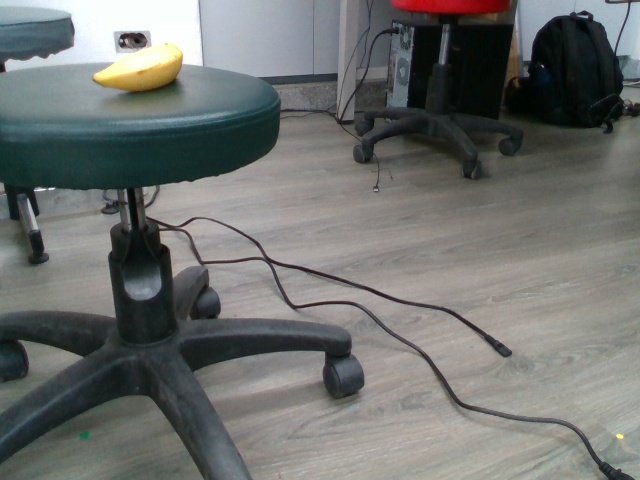banana: (91, 42, 185, 94)
